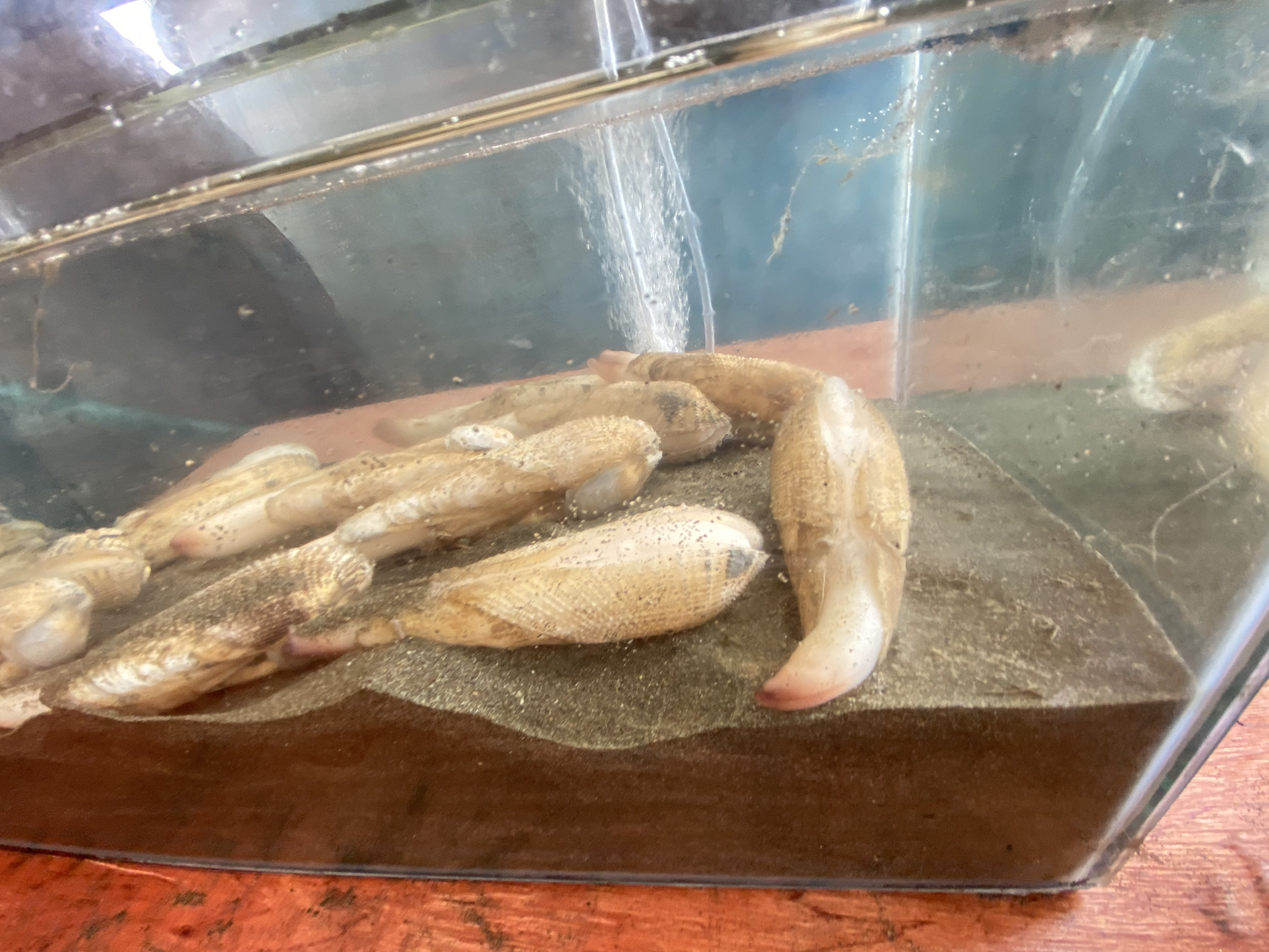Healthy: (300, 507, 766, 648), (760, 377, 910, 709), (332, 417, 661, 561), (170, 438, 482, 559), (588, 350, 825, 445), (373, 375, 606, 446), (360, 626, 364, 632)
